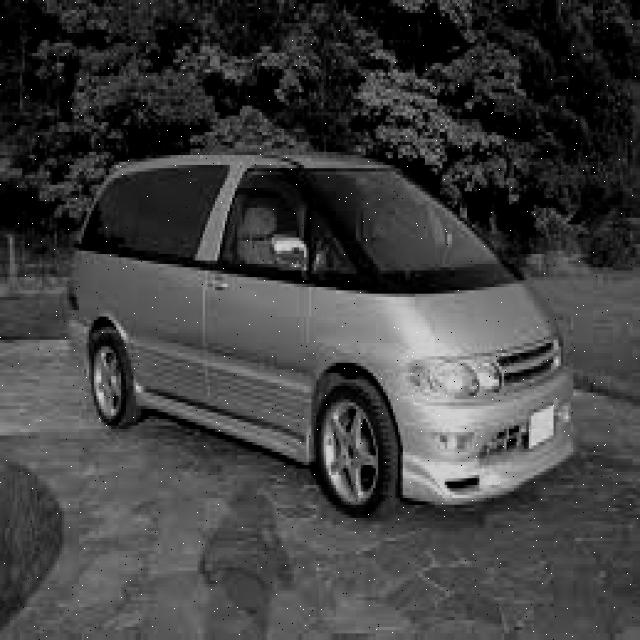Van: (67, 148, 583, 518)
